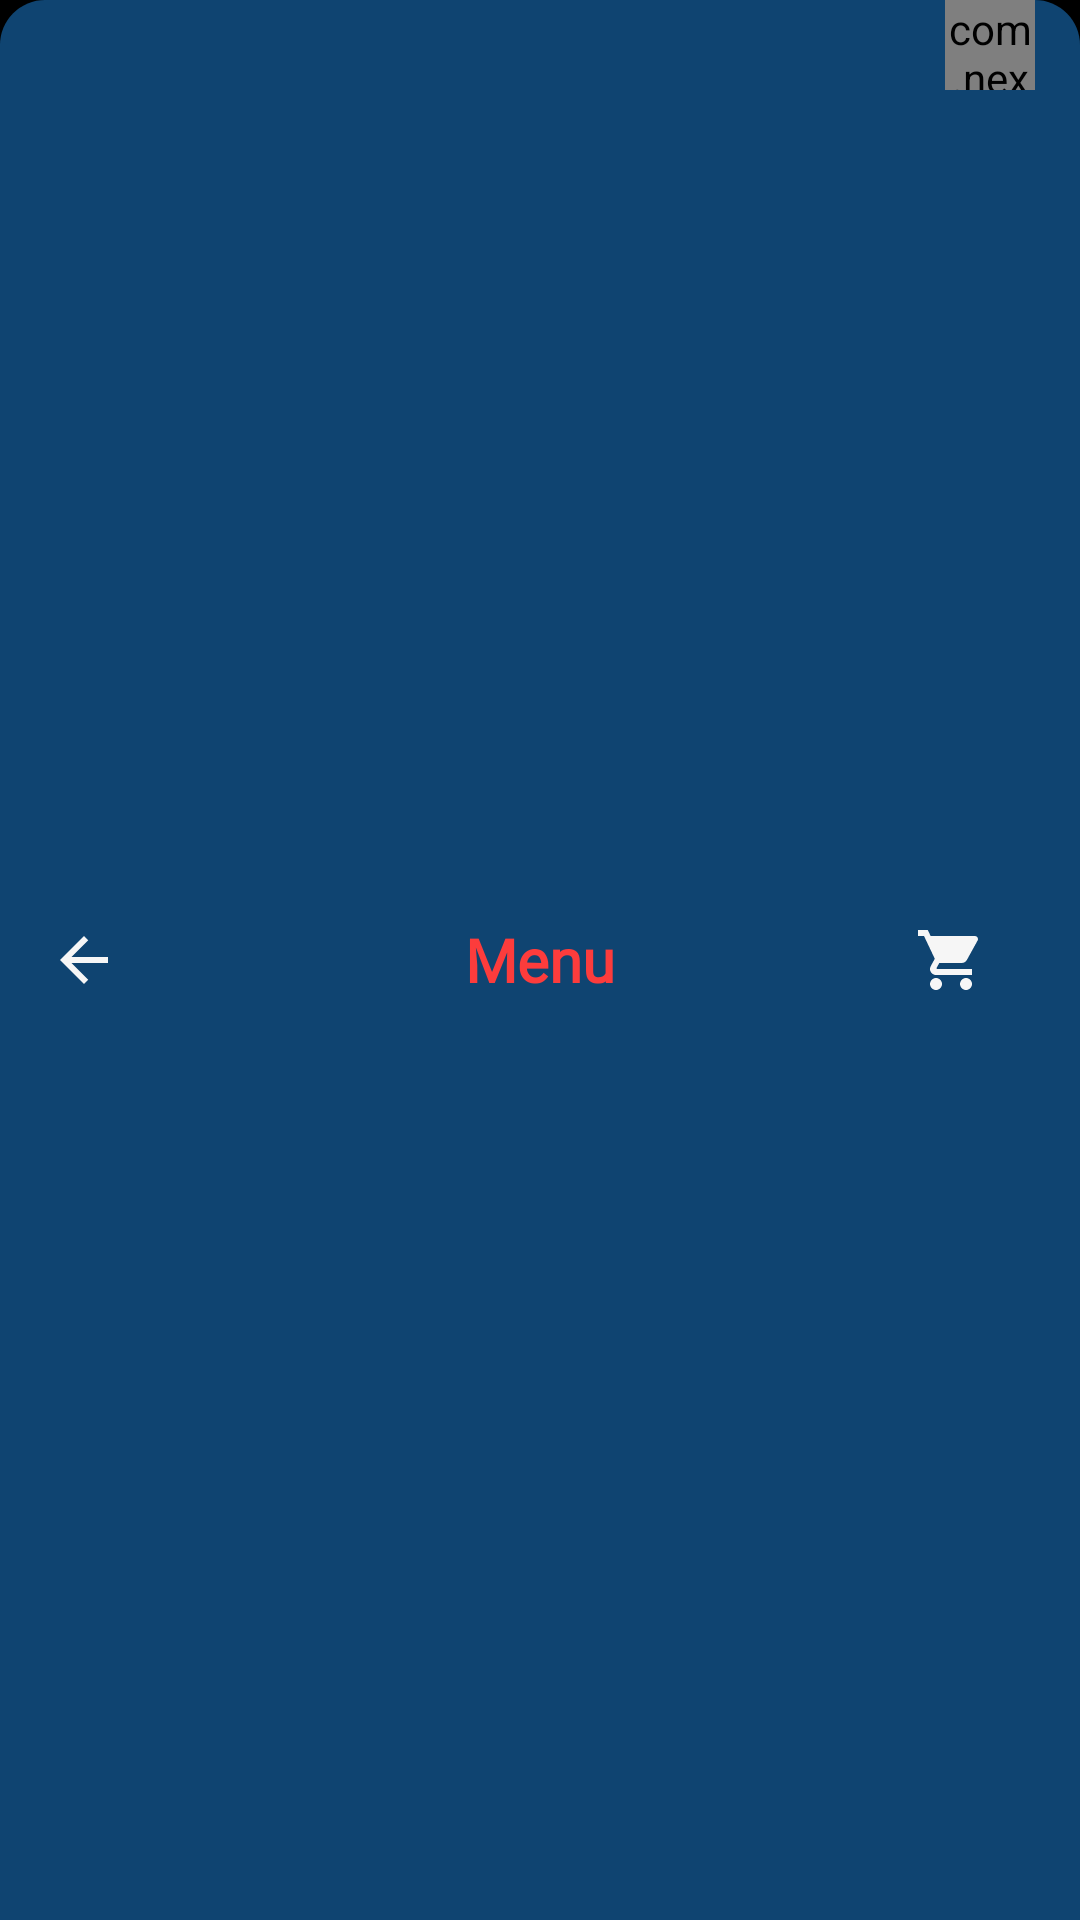

Named icons in this screenshot (1080 x 1920) and their centers, (x,y):
kembali: (84,960)
keranjang: (948,960)
